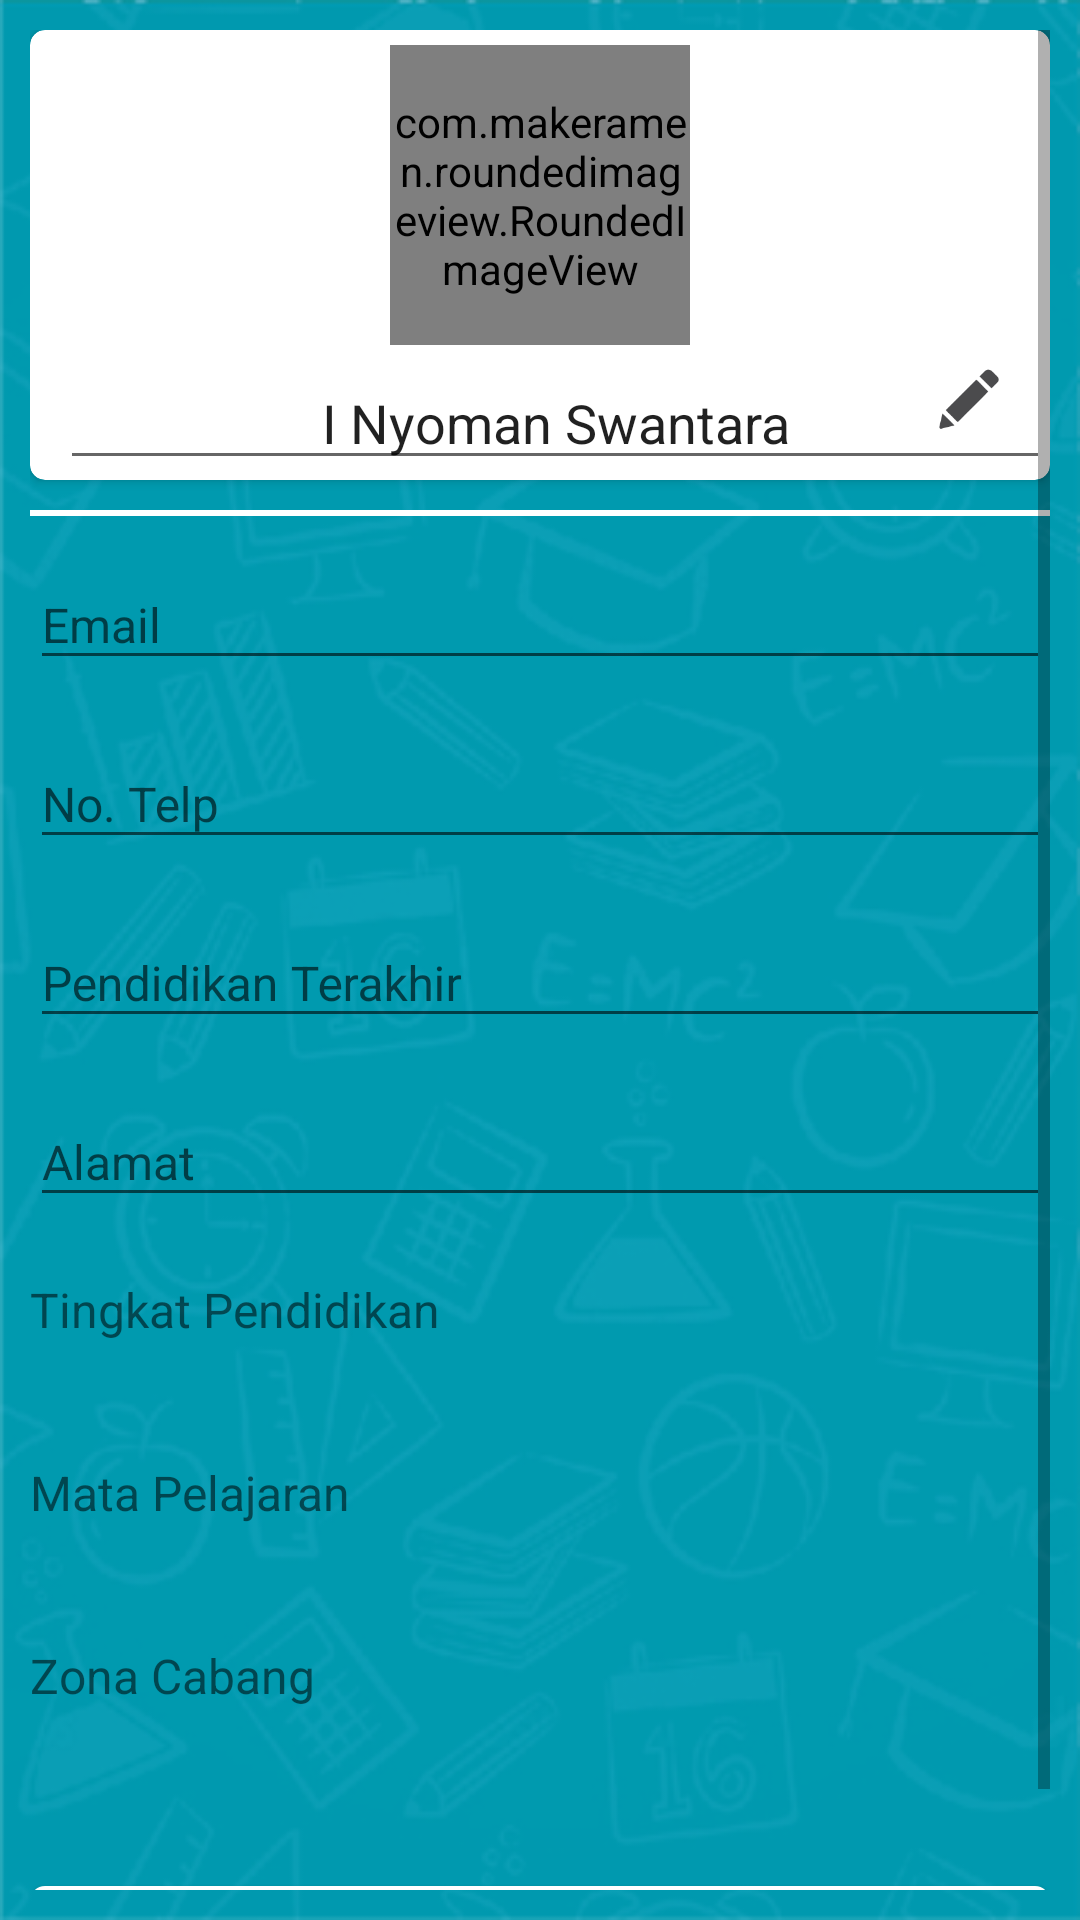

Where to tap for icons on this 1080*1920 app screen, as (x=x, y=y):
pen: (x=969, y=399)
